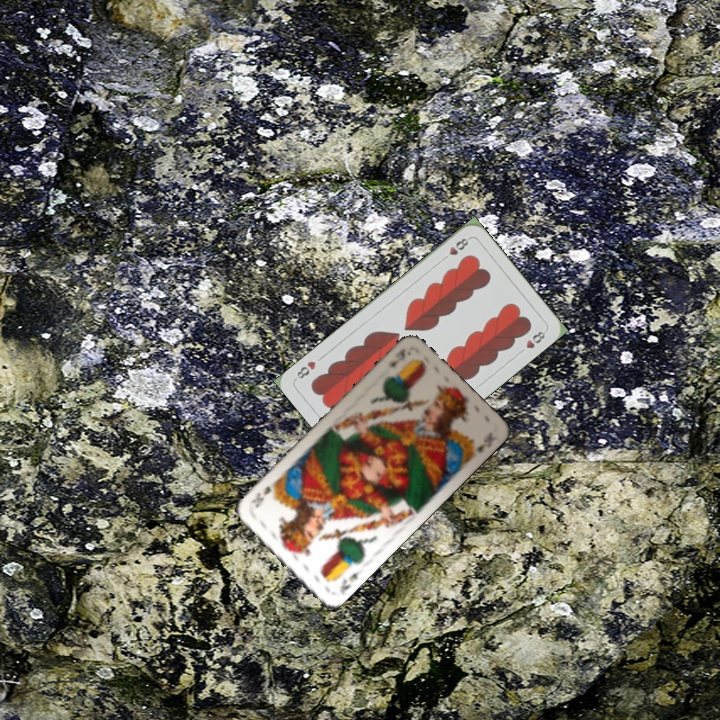EK: (336, 565, 364, 594), (386, 345, 409, 370)
H8: (438, 234, 472, 264)
